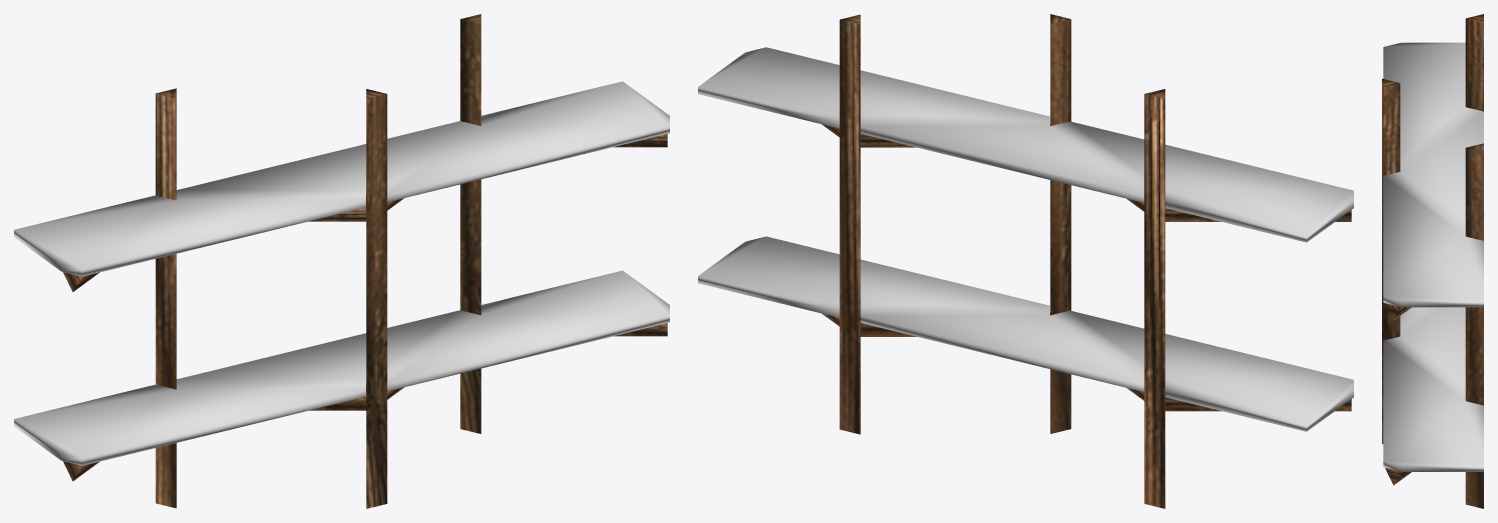
The model's file is Shelf4.fbx.
3 views of the same model, side by side, from view 1: azimuth 30°, elevation 25°; view 2: azimuth 150°, elevation 25°; view 3: azimuth 270°, elevation 25° (orthographic). The views are drawn at different scales.
Parts seen in each view (by area): view 1: Bookcase 002, Bookcase 002_2, Bookcase 002_13, Bookcase 002_7, Bookcase 002_12; view 2: Bookcase 002_2, Bookcase 002, Bookcase 002_12, Bookcase 002_7, Bookcase 002_13; view 3: Bookcase 002_2, Bookcase 002, Bookcase 002_7, Bookcase 002_13, Bookcase 002_12, Bookcase 002_9, Bookcase 002_8.
Boxes of the visible parts, left/top/right/bottom form: Bookcase 002: left=14, top=270, right=669, bottom=465; Bookcase 002_2: left=14, top=81, right=669, bottom=276; Bookcase 002_13: left=366, top=89, right=387, bottom=508; Bookcase 002_7: left=460, top=14, right=481, bottom=433; Bookcase 002_12: left=155, top=88, right=176, bottom=508; Bookcase 002_2: left=698, top=47, right=1353, bottom=242; Bookcase 002: left=698, top=236, right=1353, bottom=431; Bookcase 002_12: left=1144, top=89, right=1165, bottom=508; Bookcase 002_7: left=839, top=14, right=860, bottom=434; Bookcase 002_13: left=1050, top=14, right=1071, bottom=433; Bookcase 002_2: left=1383, top=42, right=1483, bottom=307; Bookcase 002: left=1383, top=307, right=1483, bottom=471; Bookcase 002_7: left=1465, top=143, right=1483, bottom=508; Bookcase 002_13: left=1382, top=78, right=1400, bottom=444; Bookcase 002_12: left=1465, top=14, right=1483, bottom=111; Bookcase 002_9: left=1385, top=303, right=1411, bottom=320; Bookcase 002_8: left=1385, top=468, right=1411, bottom=485.
Size of the model in its own units: 115 by 74 by 19.13.
